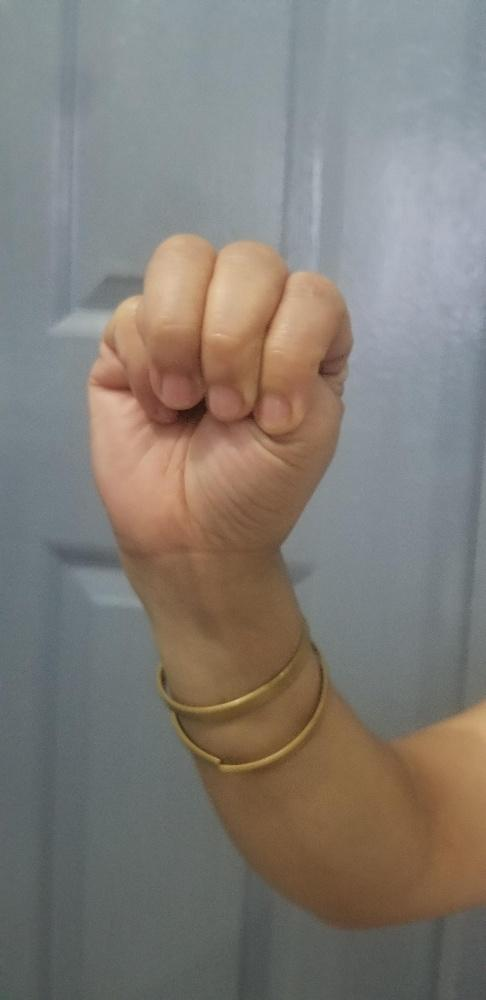m: (84, 229, 355, 556)
